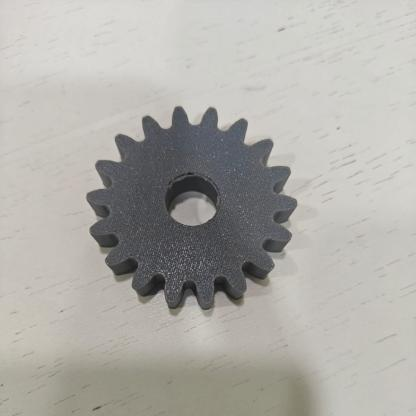gear: (61, 94, 328, 346)
